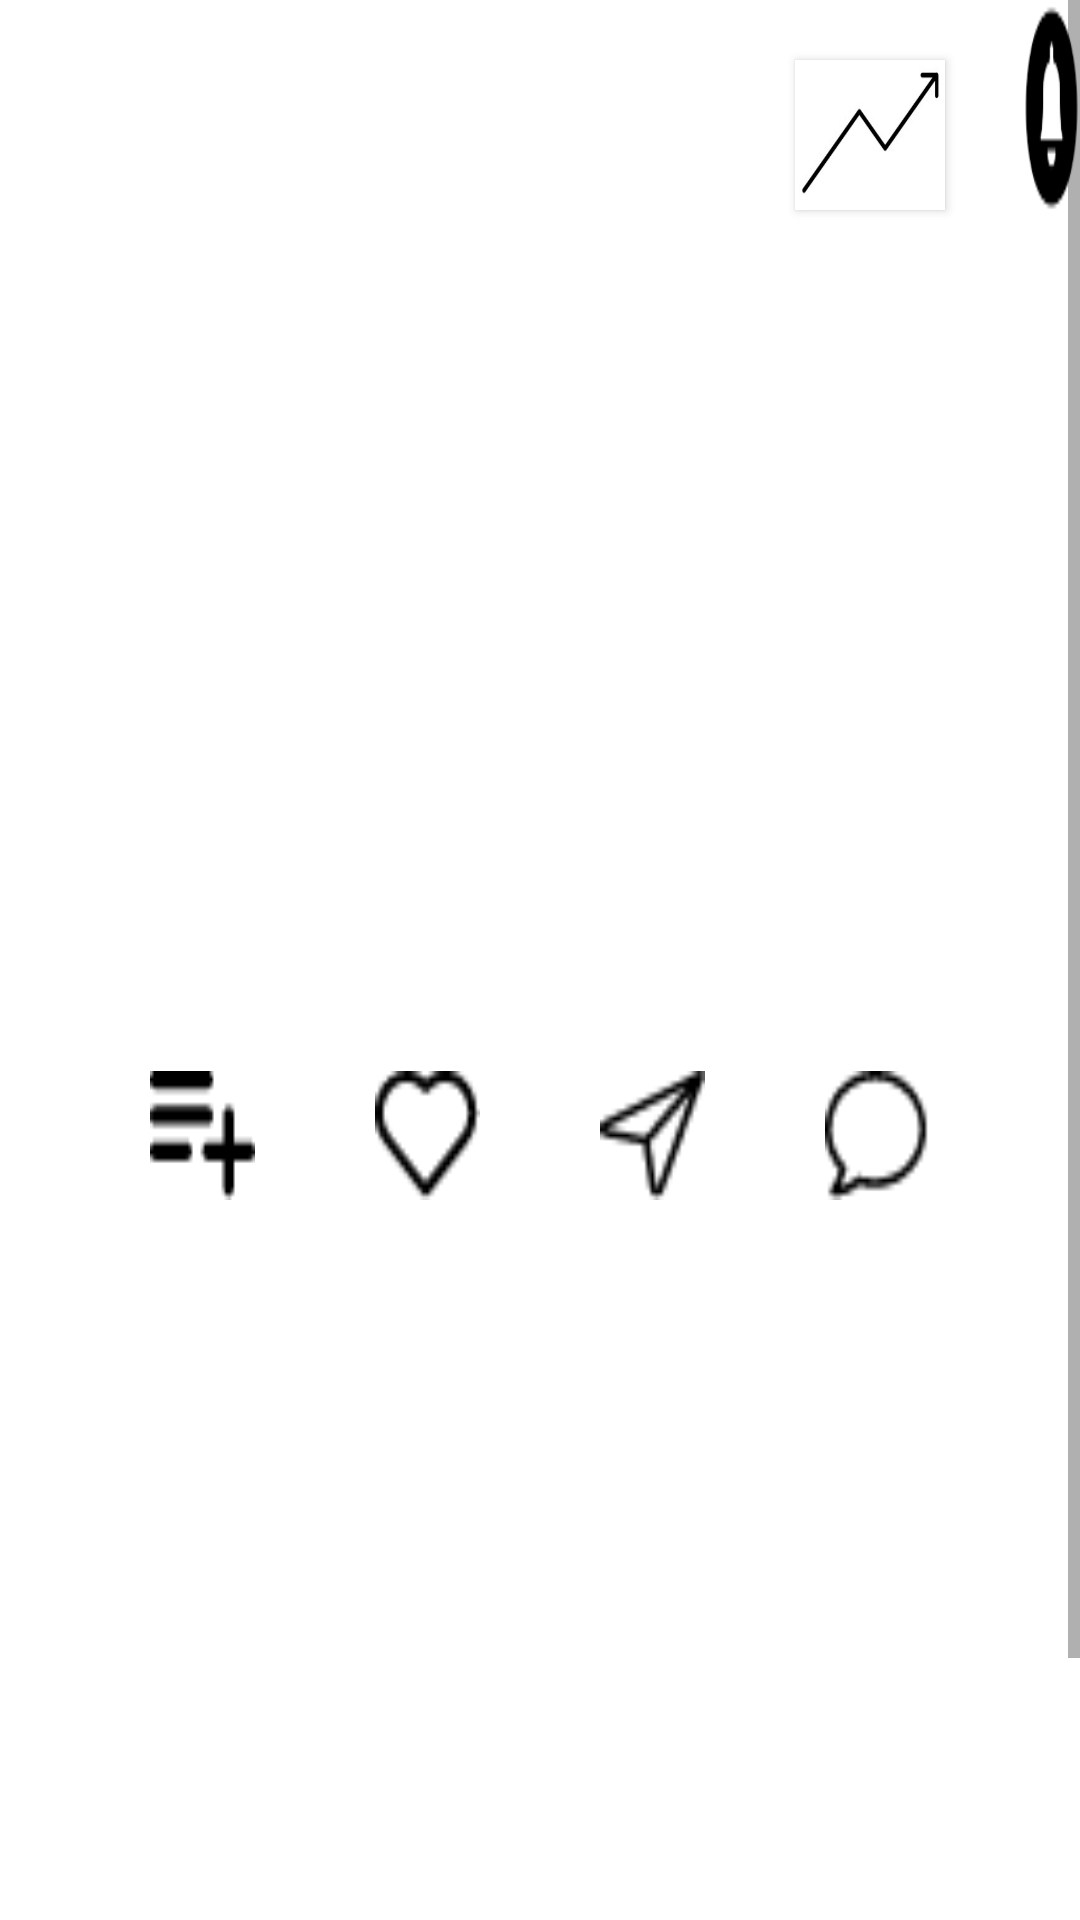

Icons on this 1080 x 1920 Android screen, each with its box as [x1=x1, y1=y1, x2=x2, y2=y2]:
addcollection: [x1=150, y1=1071, x2=255, y2=1200]
comment: [x1=825, y1=1071, x2=928, y2=1200]
like: [x1=375, y1=1071, x2=480, y2=1200]
notification: [x1=1025, y1=0, x2=1080, y2=216]
share: [x1=600, y1=1071, x2=705, y2=1200]
trends: [x1=802, y1=72, x2=939, y2=194]
